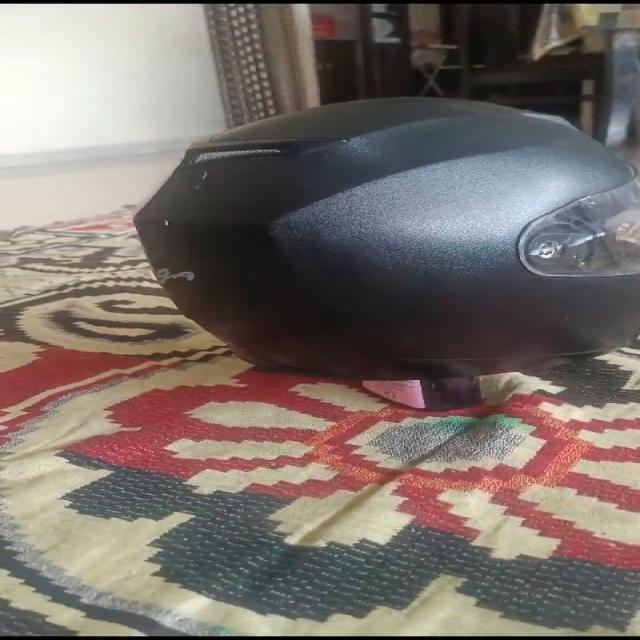Helmet: (132, 96, 640, 407)
